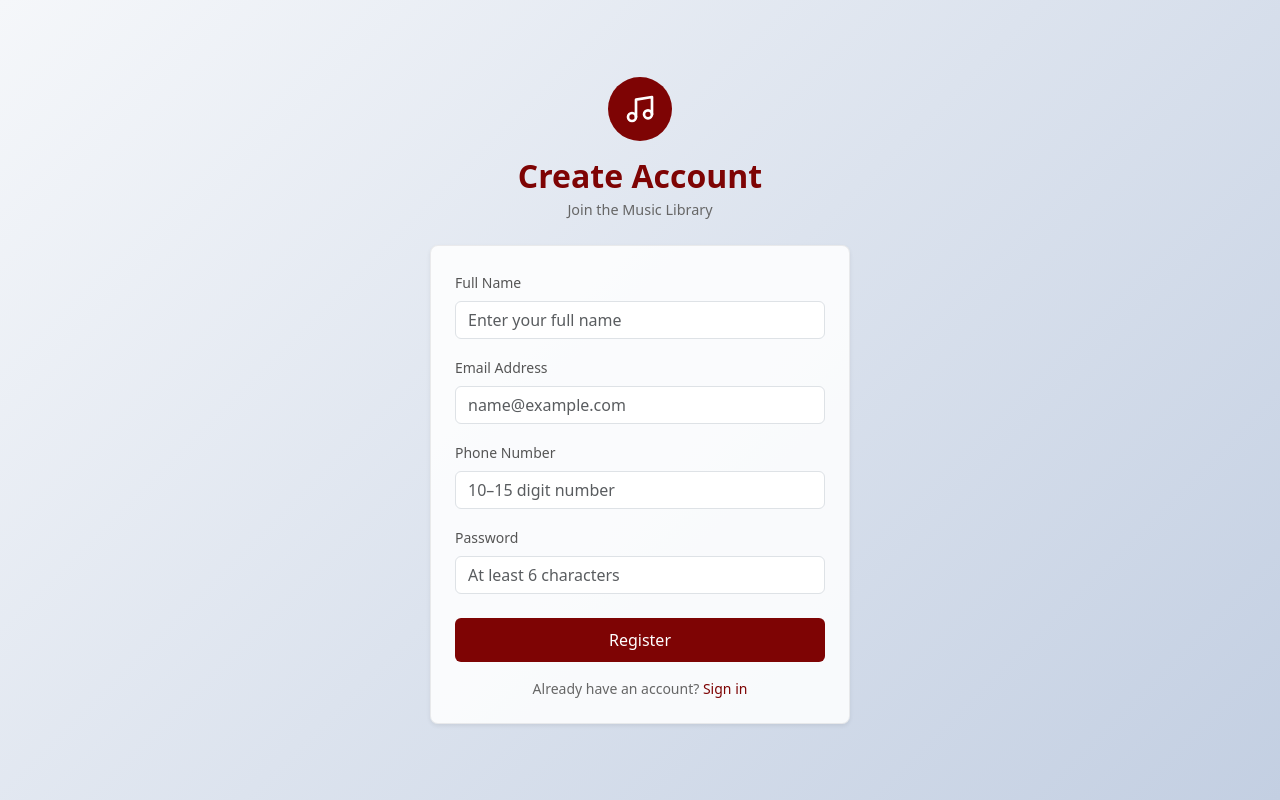
Test: Register Page › should show all validation errors on empty submit
The image size is (1280, 800).
Click the submit button at (640, 640), box 455,618 -> 825,662
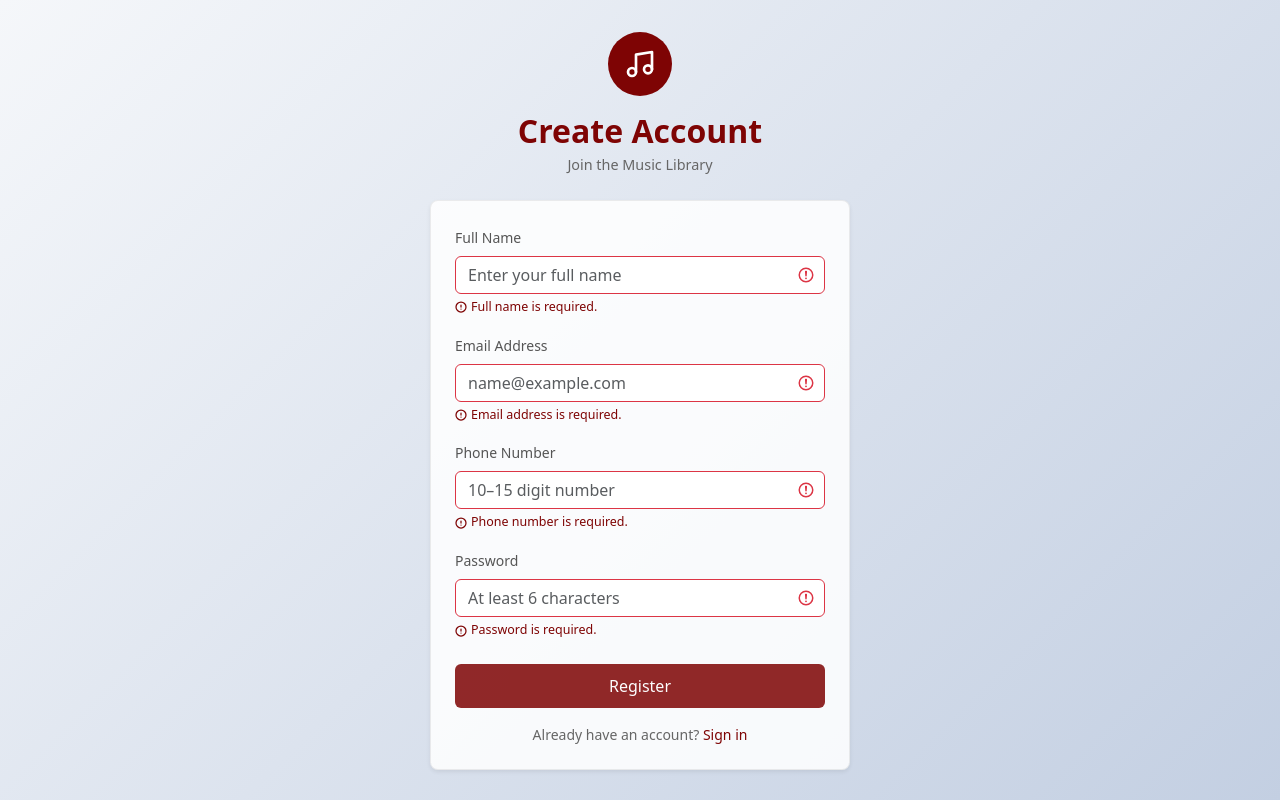
Expected: the text "Full name is required" is shown, 471,298 -> 597,315
Expected: the text "Email address is required" is shown, 471,406 -> 622,423
Expected: the text "Phone number is required" is shown, 471,513 -> 628,530
